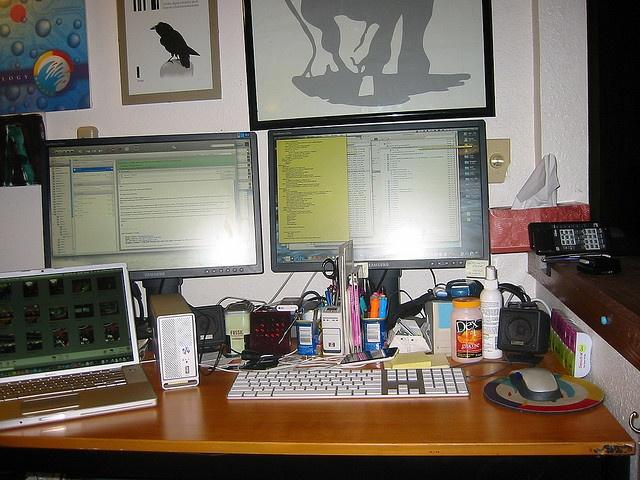AIO PC-Monitor-TV: (266, 118, 491, 272), (39, 129, 264, 283)
Meja: (0, 340, 635, 474)
